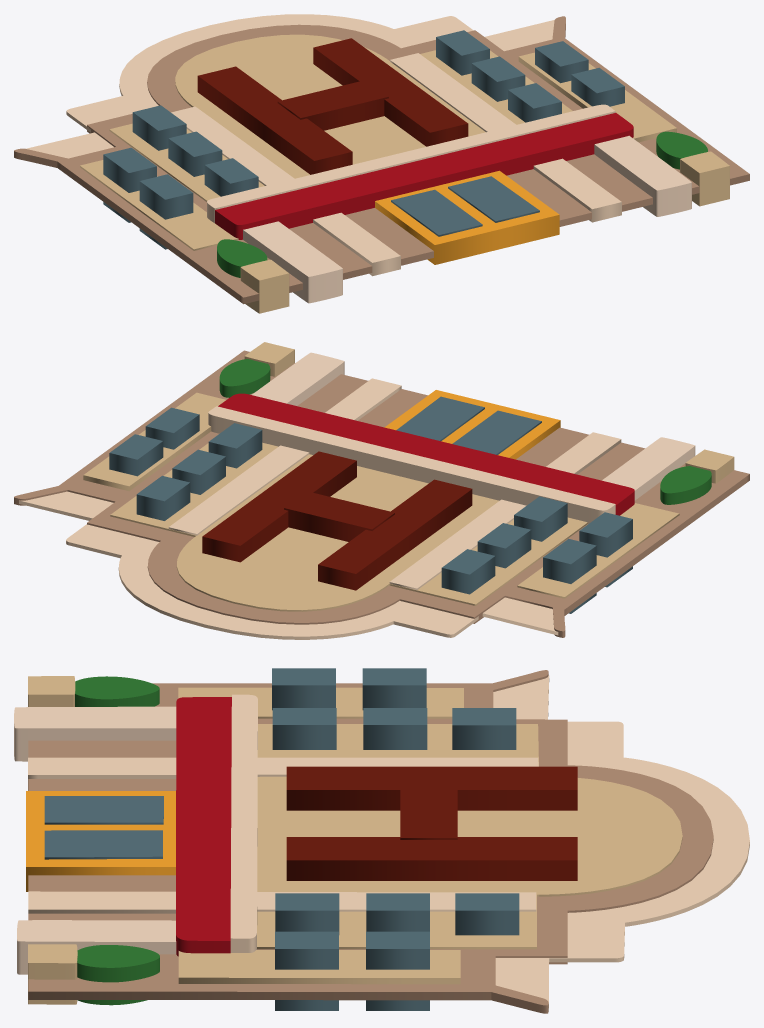
Rendered from emoji_u1f3e8.glb.
3 views of the same model, one above another, from view 1: azimuth 30°, elevation 25°; view 2: azimuth 150°, elevation 25°; view 3: azimuth 270°, elevation 25° (orthographic). The views are drawn at different scales.
Parts seen in each view (by area): view 1: emoji_u1f3e8; view 2: emoji_u1f3e8; view 3: emoji_u1f3e8.
Part boxes in pixels (x1,y1,x2,y2): emoji_u1f3e8: [14, 14, 749, 313]; emoji_u1f3e8: [14, 342, 749, 639]; emoji_u1f3e8: [14, 668, 749, 1013].
Bounding box in the file's own units: 0.0347 × 0.003 × 0.0322.
